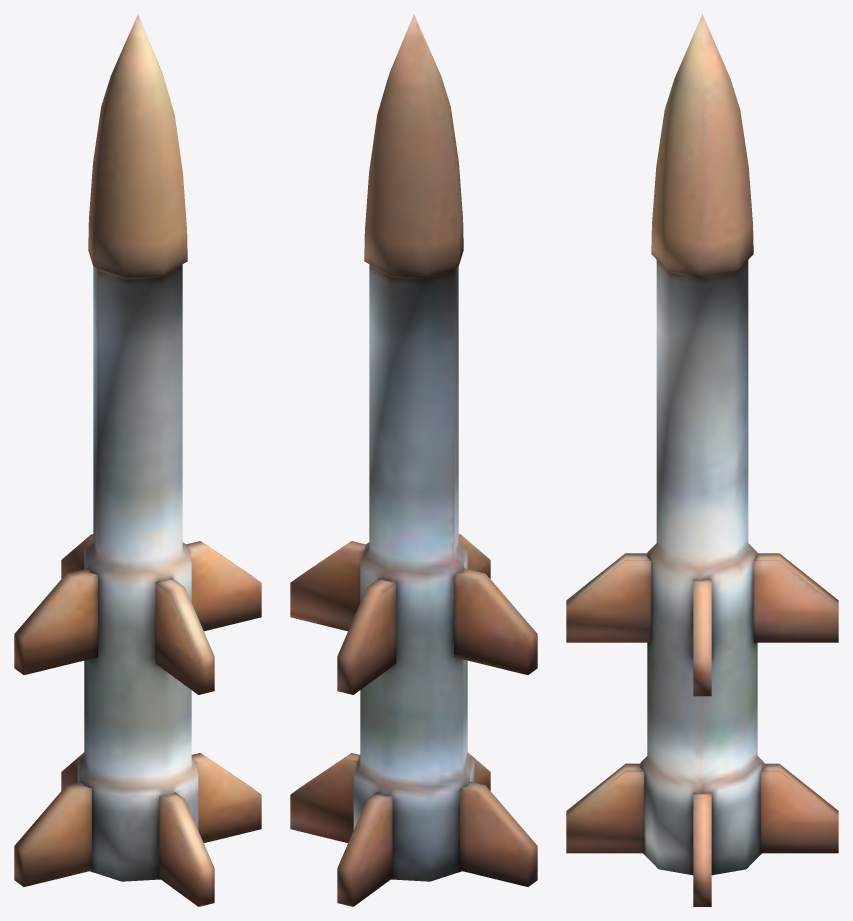
File: rocket.glb
3 renders of one model, left to right at view 1: azimuth 30°, elevation 25°; view 2: azimuth 150°, elevation 25°; view 3: azimuth 270°, elevation 25°, orthographic.
Visible parts, largest first — view 1: Cylinder.003; view 2: Cylinder.003; view 3: Cylinder.003.
Part boxes in pixels (box(x1,y1,x2,y2)): Cylinder.003: box(14, 14, 261, 906); Cylinder.003: box(290, 14, 537, 906); Cylinder.003: box(566, 14, 838, 906).
Bounding box in the file's own units: 2 × 6.78 × 2.
1 material, 1 textured.
